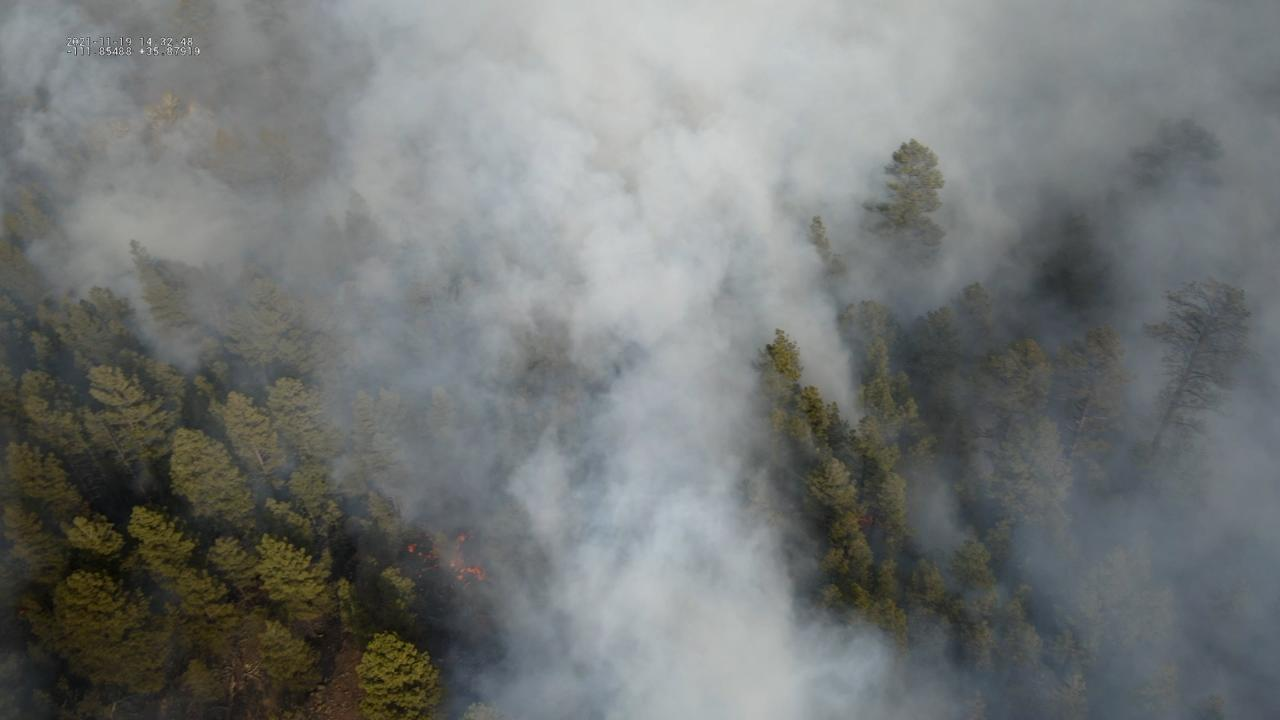fire: (407, 530, 489, 586), (15, 608, 28, 617)
smoke: (0, 0, 1280, 720)
